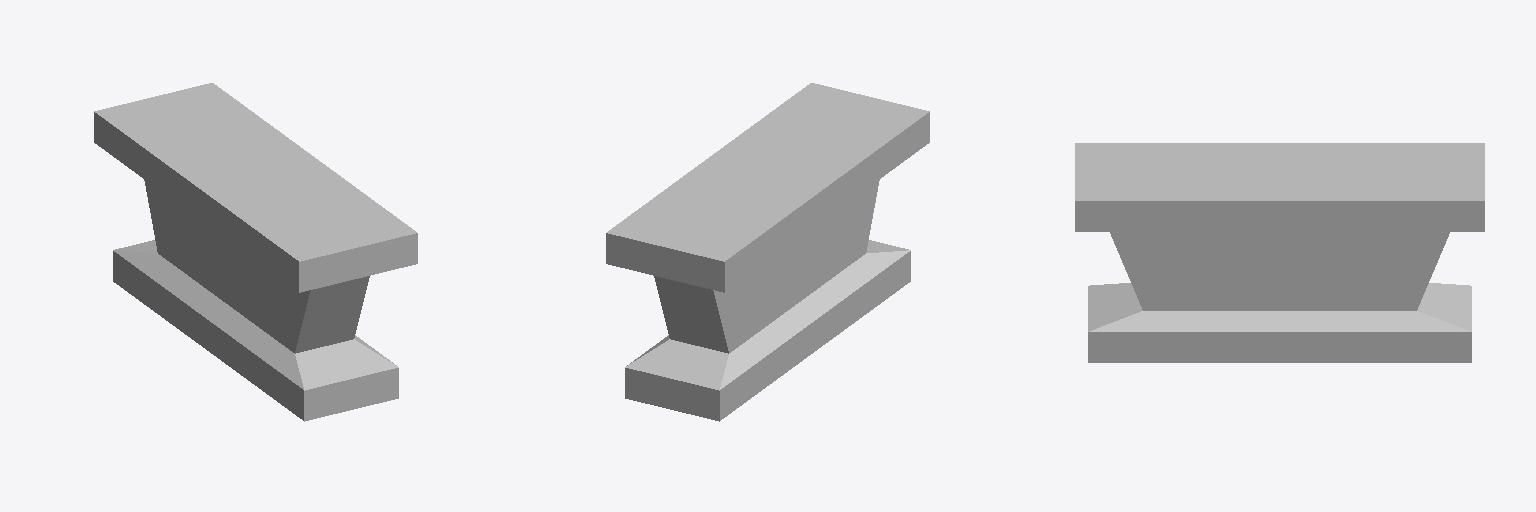
File: altar_1_002.obj
3 views of the same model, side by side, from view 1: azimuth 30°, elevation 25°; view 2: azimuth 150°, elevation 25°; view 3: azimuth 270°, elevation 25° (orthographic).
Visible parts, largest first — view 1: Cube; view 2: Cube; view 3: Cube.
Boxes of the visible parts, <box> form: Cube: <box>94,83,417,421</box>; Cube: <box>606,83,929,421</box>; Cube: <box>1075,143,1484,362</box>.
Size of the model in its own units: 1 by 1.35 by 3.